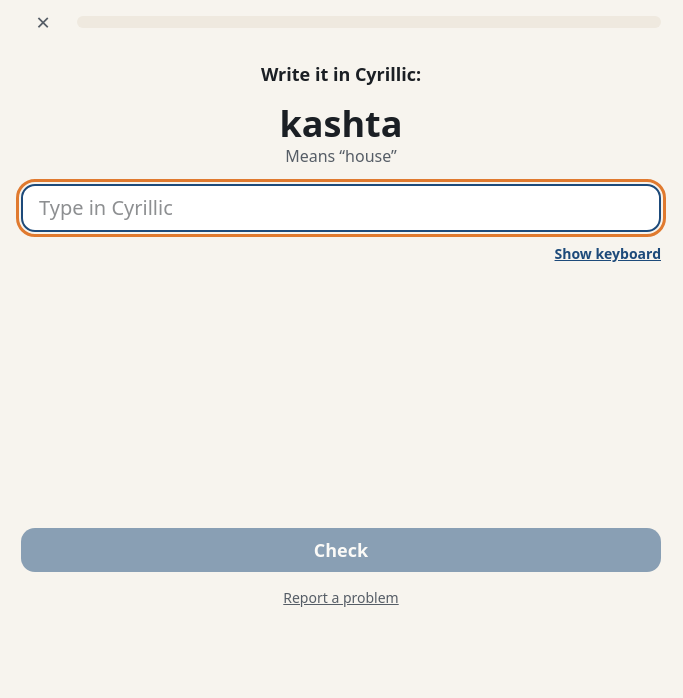
ExerciseSession › asks for Cyrillic instead of grading Latin input
This screenshot has width=683, height=698.
Type "kashta" into the field named "Your answer" at point(341, 208), box [21,184,661,232]
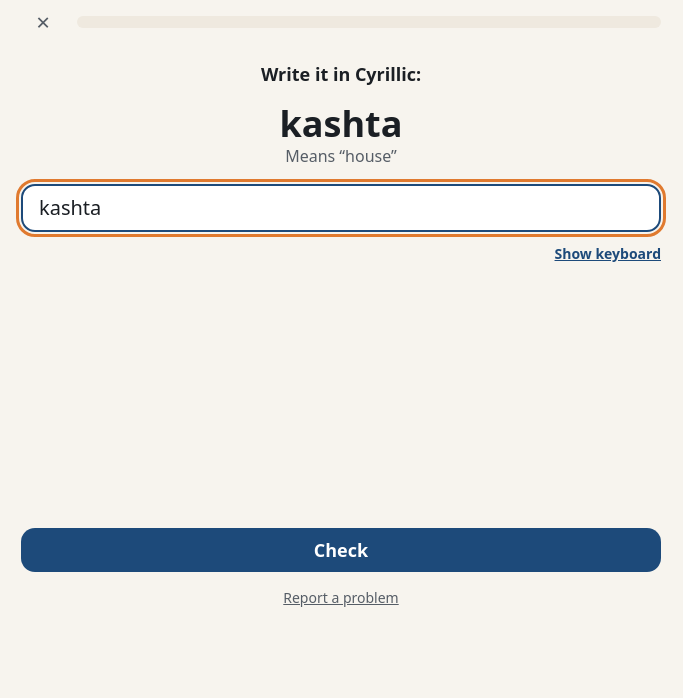
Click the button "Check" at point(341, 550), box [21,528,661,572]
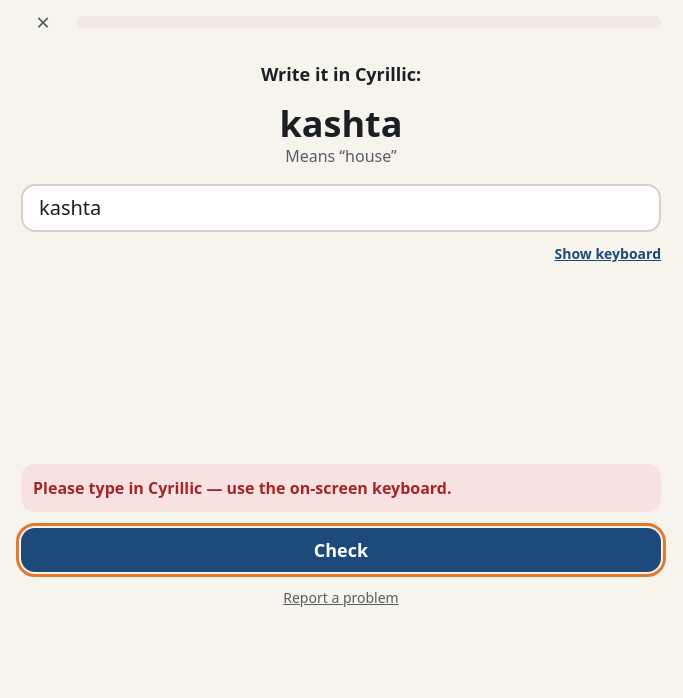
Expected: the message shows "Please type in Cyrillic", [33,477,452,499]
Click the button "Show keyboard" at point(608, 254), box [554,244,661,264]
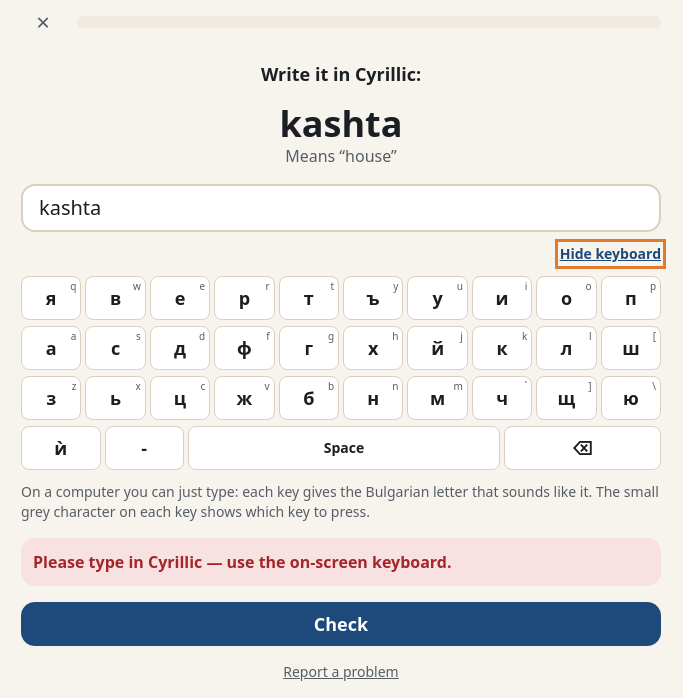
Expected: the element named "Cyrillic keyboard" is shown, [21,276,661,470]
